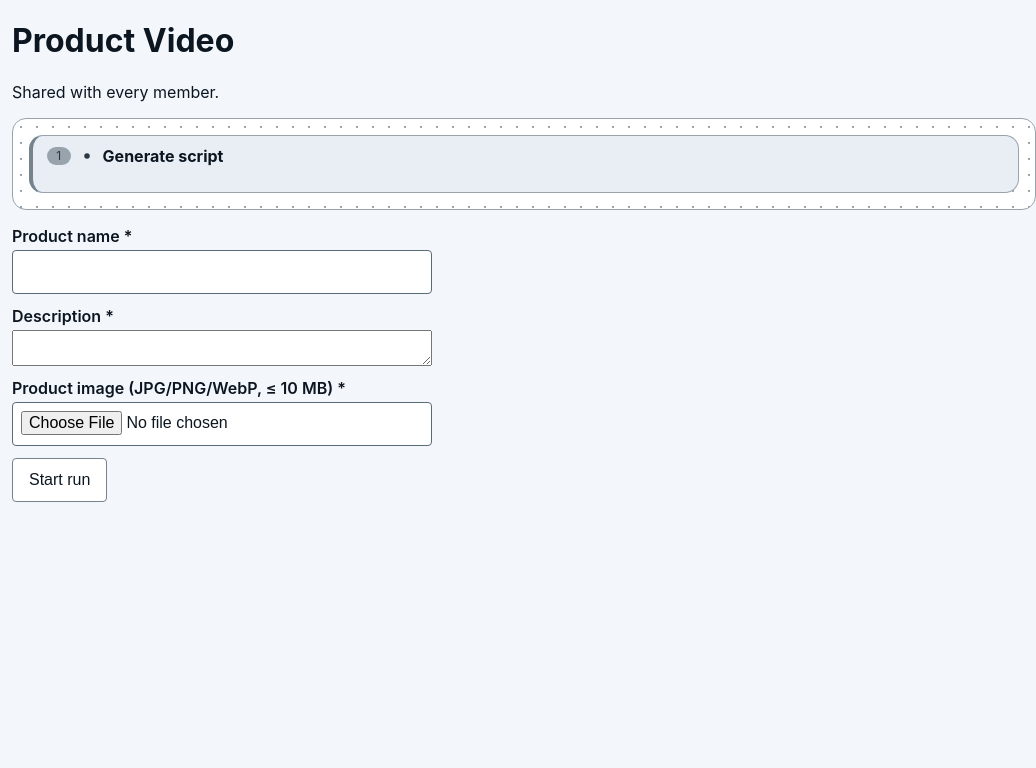
Test: ProductVideoStartForm › asks for at least one product image when Start is pressed without one
In the field labelled "Product name *": (222, 272) 12,250 -> 432,294, type "Bình giữ nhiệt"
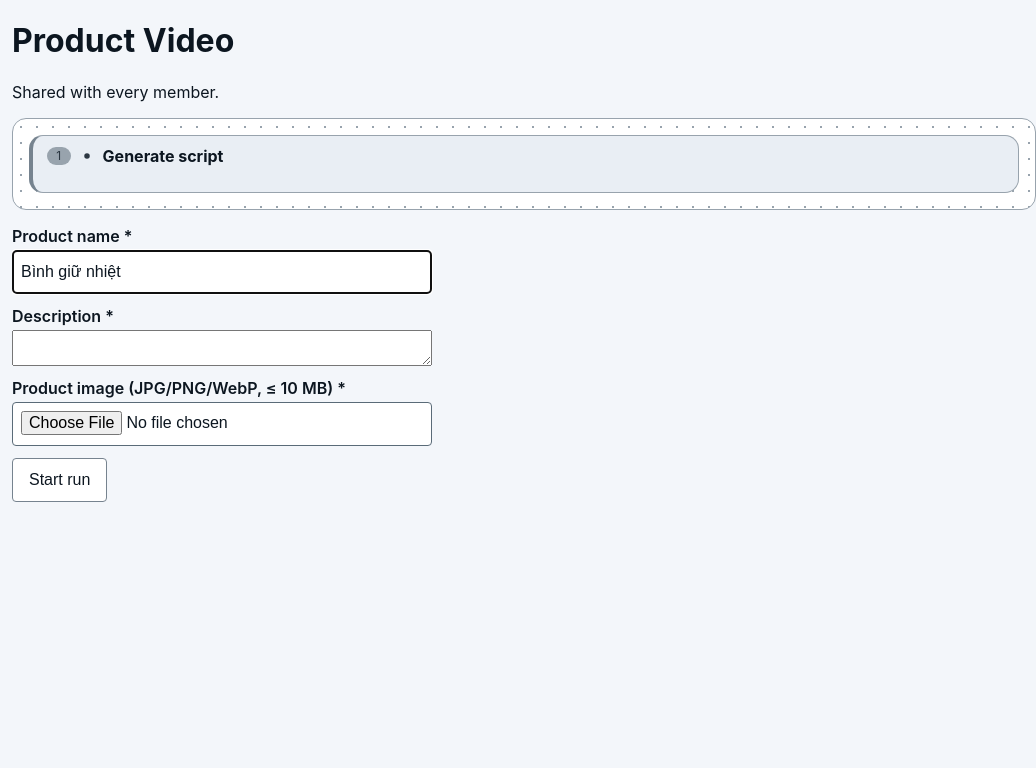
In the text box labelled "Description *": (222, 348) 12,330 -> 432,366, type "Giữ nhiệt 12 tiếng"
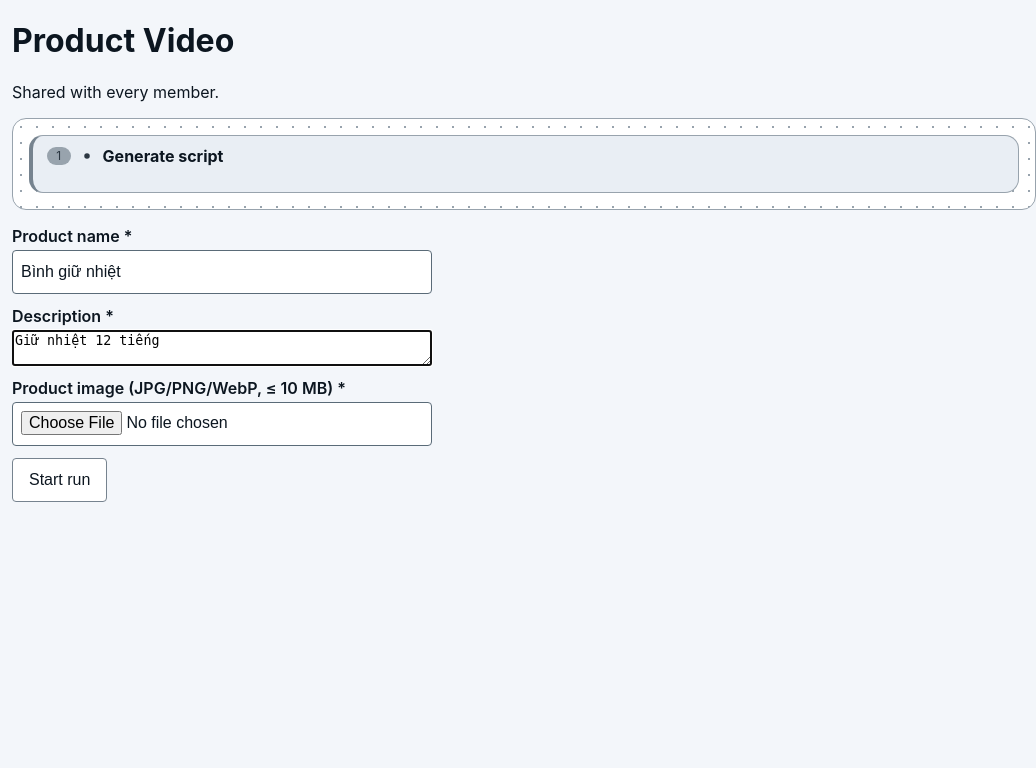
Click the button "Start run": (60, 480) 12,458 -> 107,502
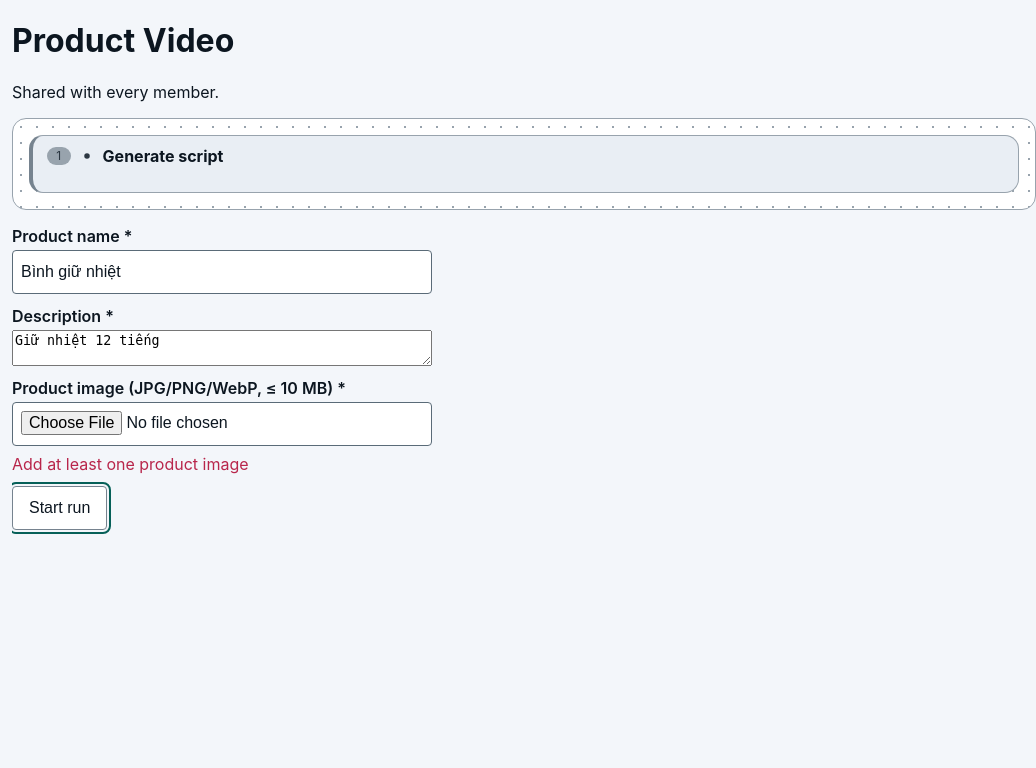
Result: the text "Add at least one product image" is shown at 12,454 -> 248,474
